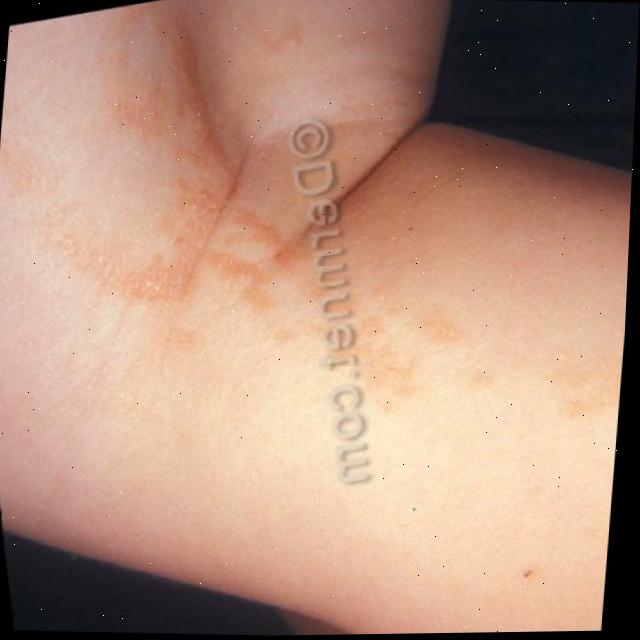Eczema: (81, 40, 463, 362)
